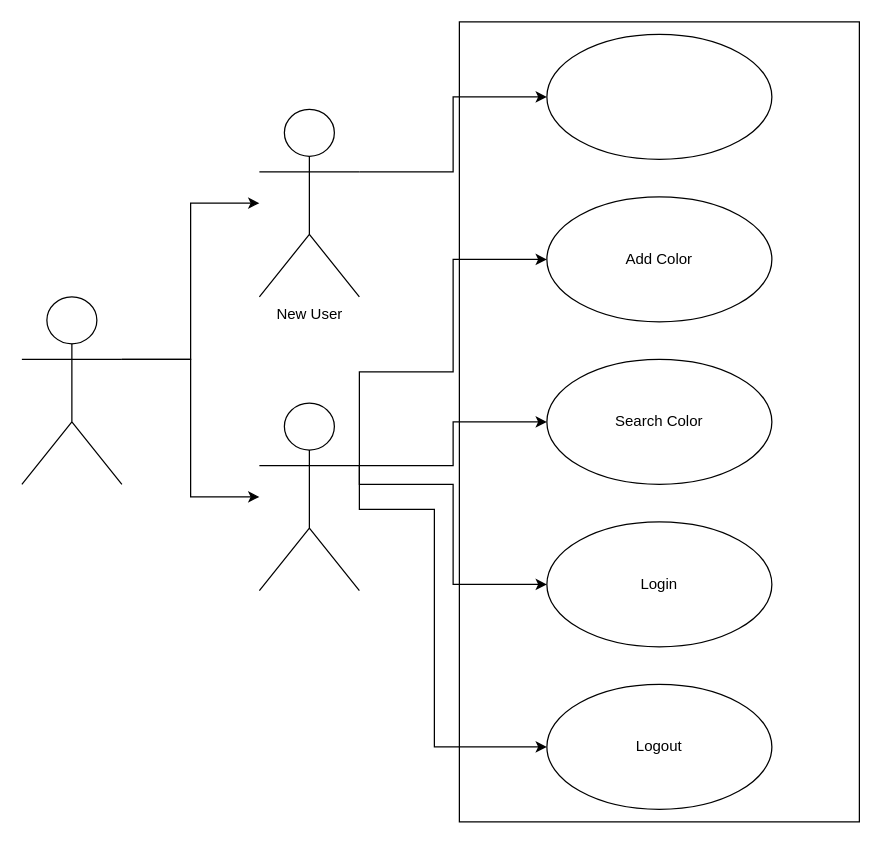
The diagram is 881 pixels wide and 844 high, and some of its shapes have lost their labels. The centre of each missing label's shape, as x and y in pixels:
Create Account: the point at 659,96
Existing User: the point at 308,496
User: the point at 71,390
